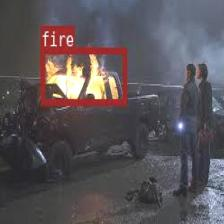fire: (40, 48, 126, 104)
